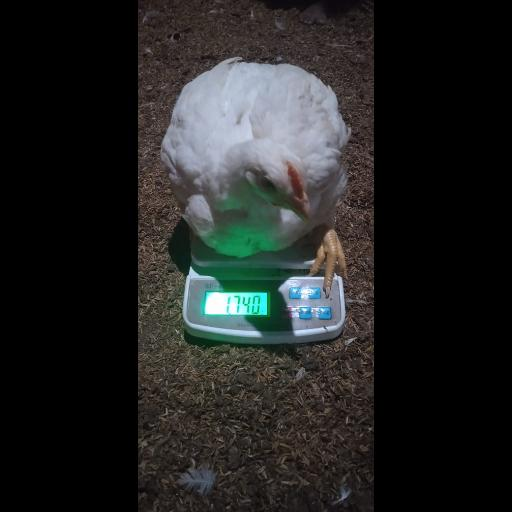chick: (165, 55, 347, 294)
